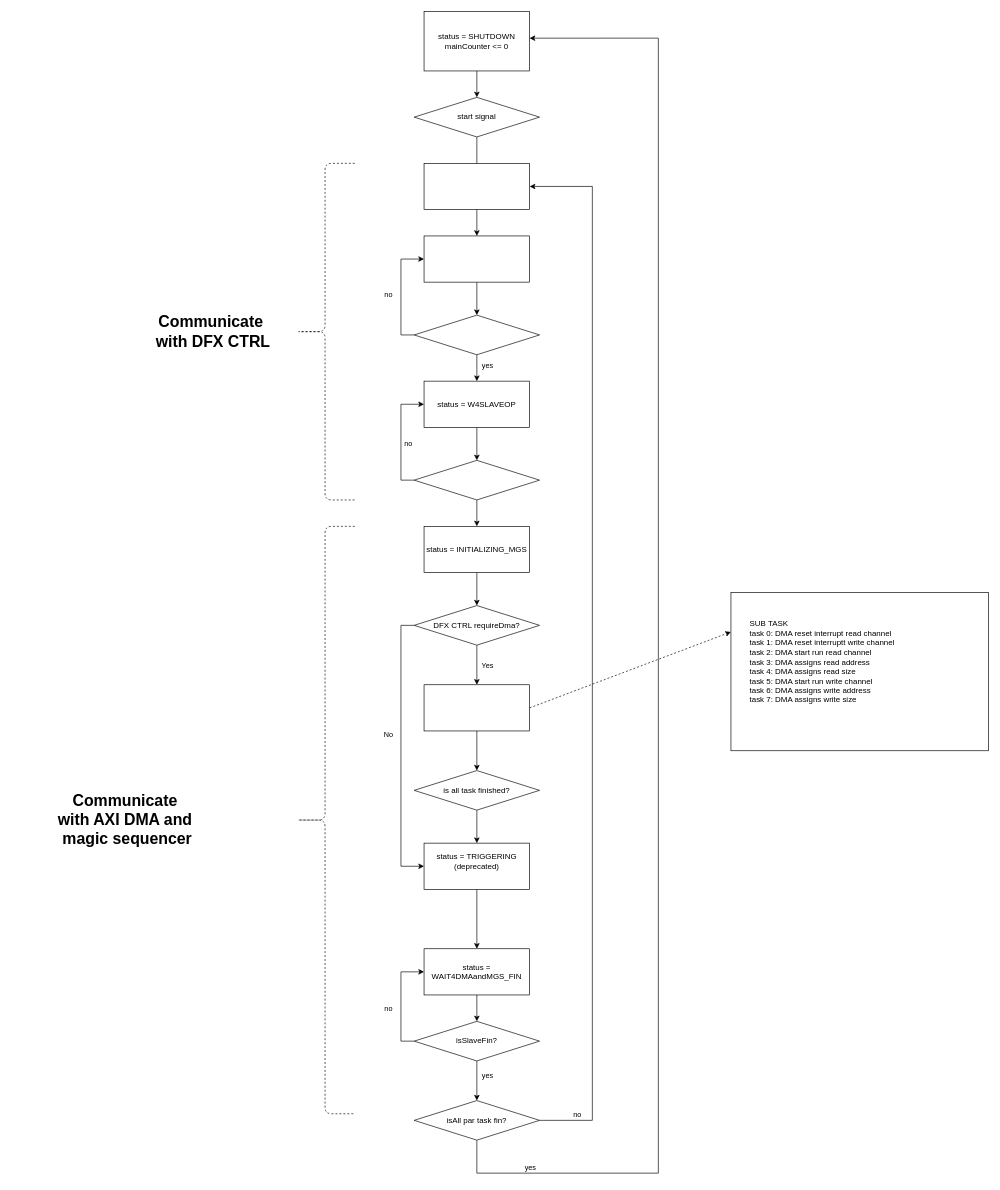
This 1000x1190 diagram has some shape labels left out. Each missing label, with the centre of its shape:
DFX CTRL reset?: (476,334)
DFX CTRL resume?: (476,480)
status = INITIALIZING_DMA: (476,707)
status = REPROG: (476,186)
status = W4SLAVERESET: (476,258)
